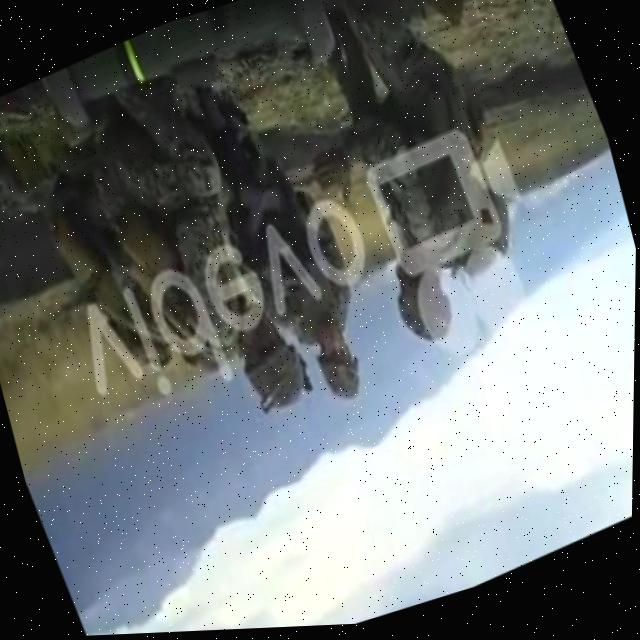rocket: (37, 0, 349, 175)
